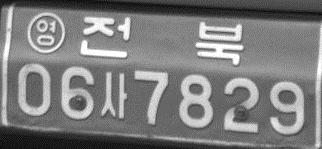0: (16, 61, 51, 116)
2: (222, 76, 260, 133)
6: (59, 66, 94, 121)
7: (132, 69, 169, 126)
8: (177, 73, 214, 129)
9: (268, 79, 304, 136)
사: (98, 70, 127, 121)
영: (25, 11, 66, 54)
전북_D: (78, 15, 245, 66)
